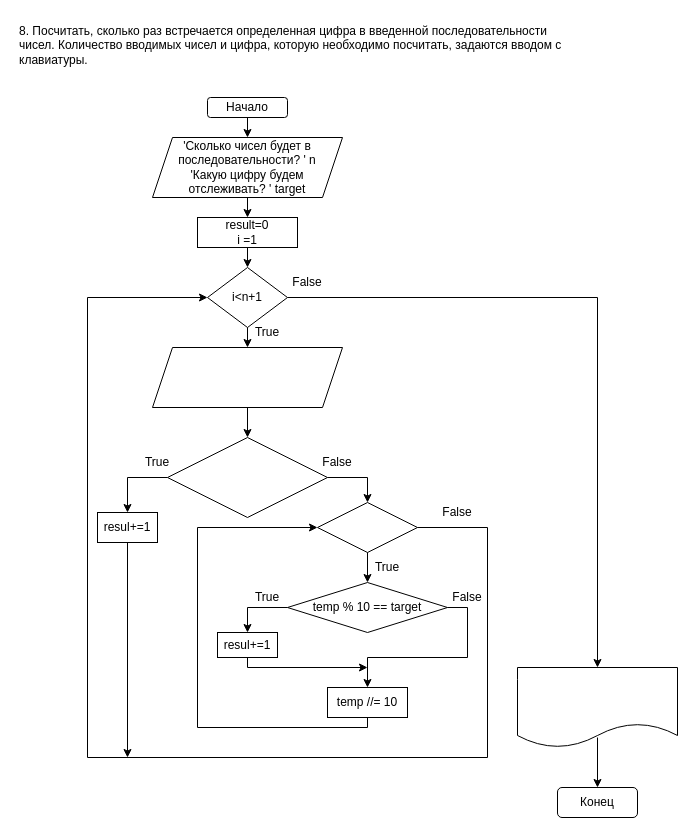
The diagram is 695 pixels wide and 835 high, and some of its shapes have lost their labels. The shapes that lost their labels are listed below. From the top down, each one's centre as x and y in pixels, then its label:
the point at 247,377: 'Введите ' i ' число последовательности ' temp
the point at 247,477: target == 0 and temp == 0
the point at 367,527: temp//1
the point at 597,707: 'В введенной последовательности цифра ' target ' встречается ' result ' раз.'
